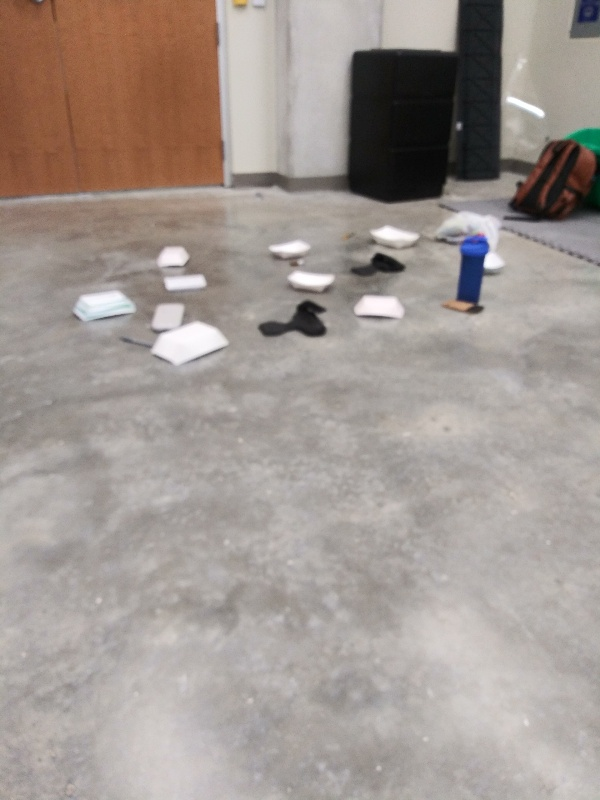plate: (145, 318, 233, 371), (67, 286, 138, 325), (350, 291, 412, 321), (281, 265, 339, 293), (366, 223, 424, 249), (266, 236, 313, 262), (154, 242, 194, 268), (481, 246, 505, 279)
